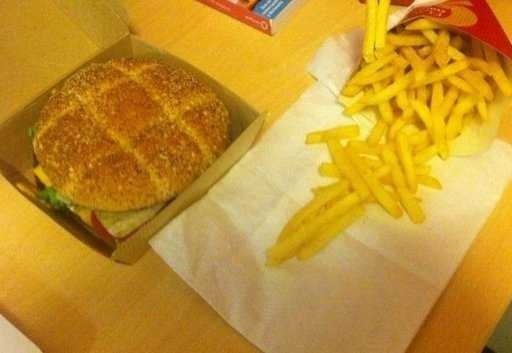hamburger: (33, 31, 195, 233)
